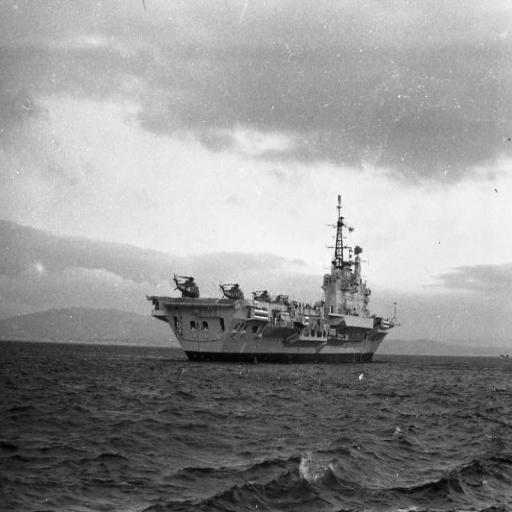Portanaves: (147, 192, 406, 365)
